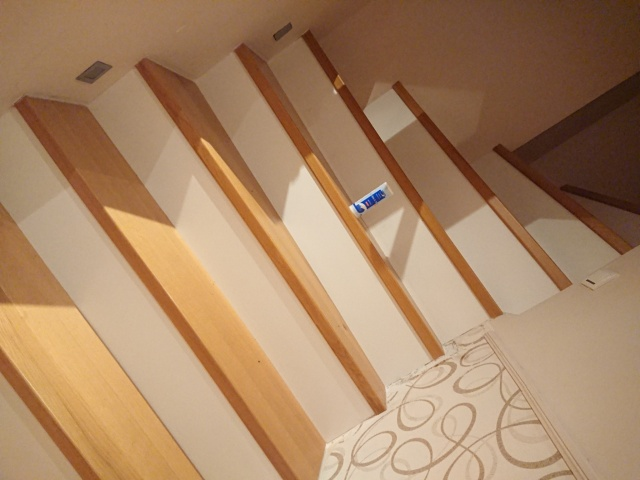Solana Pag Fine Sea Salt 250g: (347, 180, 396, 220)
